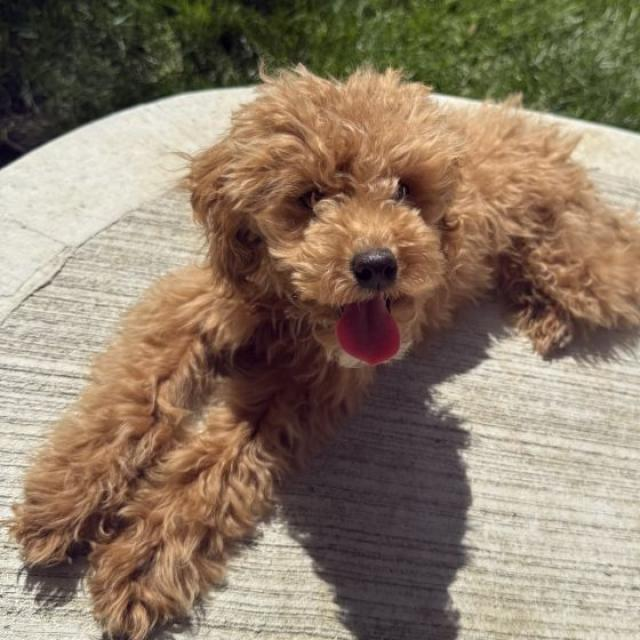Poodle_dog: (184, 53, 502, 377)
